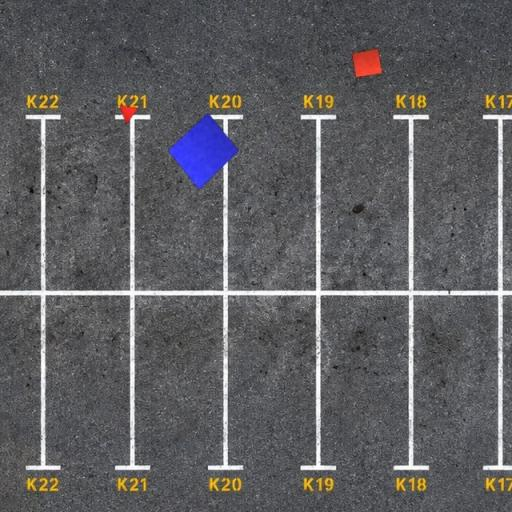BLUE_SQUARE: (167, 112, 240, 190)
RED_SQUARE: (352, 48, 382, 78)
